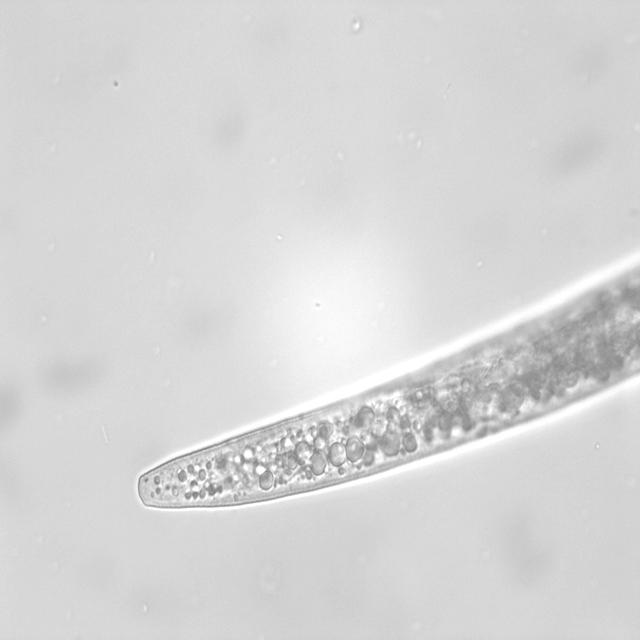Pratylenchus: (106, 249, 640, 527)
